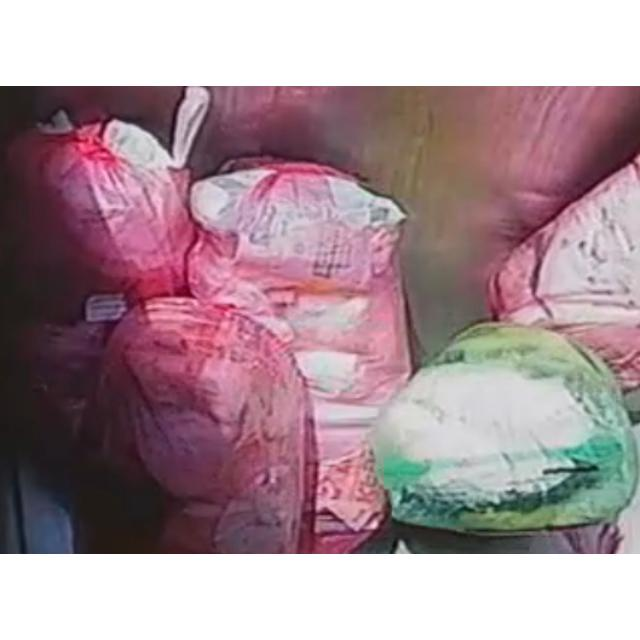general_trashbag: (378, 324, 636, 531)
other_trashbag: (189, 158, 411, 533), (76, 297, 316, 553), (8, 90, 206, 319), (490, 155, 640, 392)
